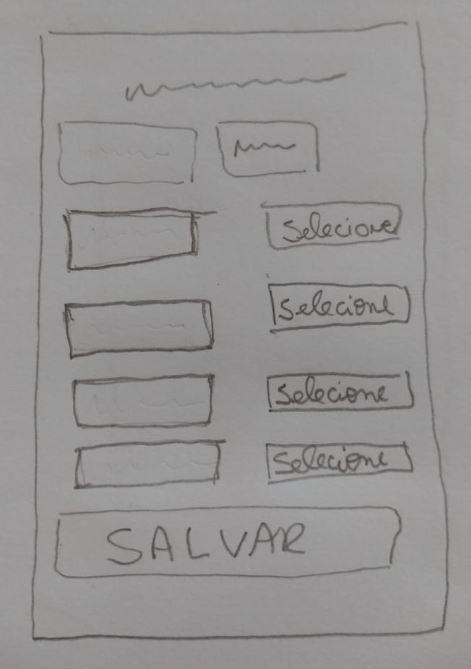Button: (54, 505, 402, 578), (268, 282, 411, 332), (265, 201, 402, 251), (266, 371, 414, 413), (265, 443, 414, 484), (216, 120, 320, 178)
Label: (124, 72, 345, 101)
Screen: (31, 22, 449, 640)
TextBox: (58, 120, 199, 185), (64, 298, 214, 358), (62, 206, 196, 270), (73, 372, 215, 428), (73, 440, 220, 489)
